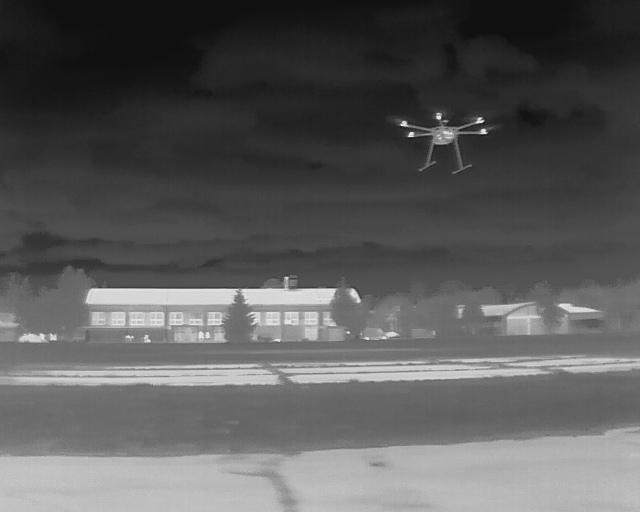drone: (384, 101, 494, 176)
